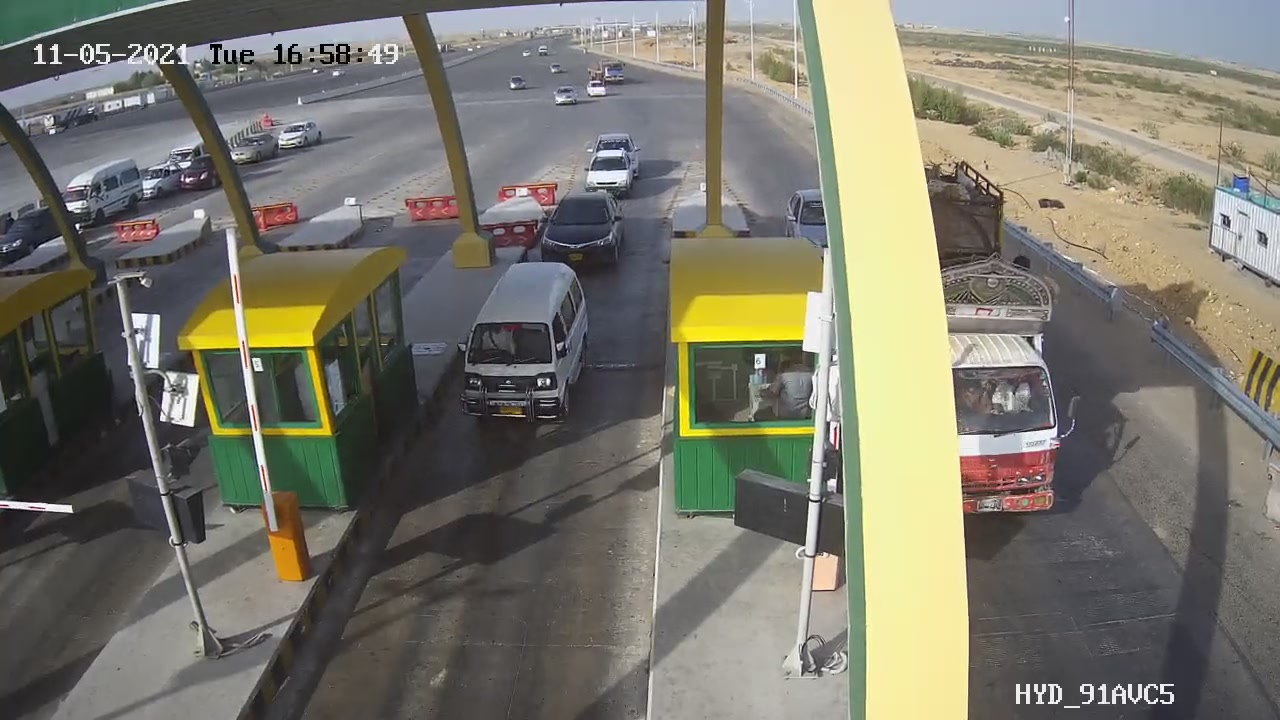F1: (439, 246, 614, 446), (524, 180, 641, 285)
